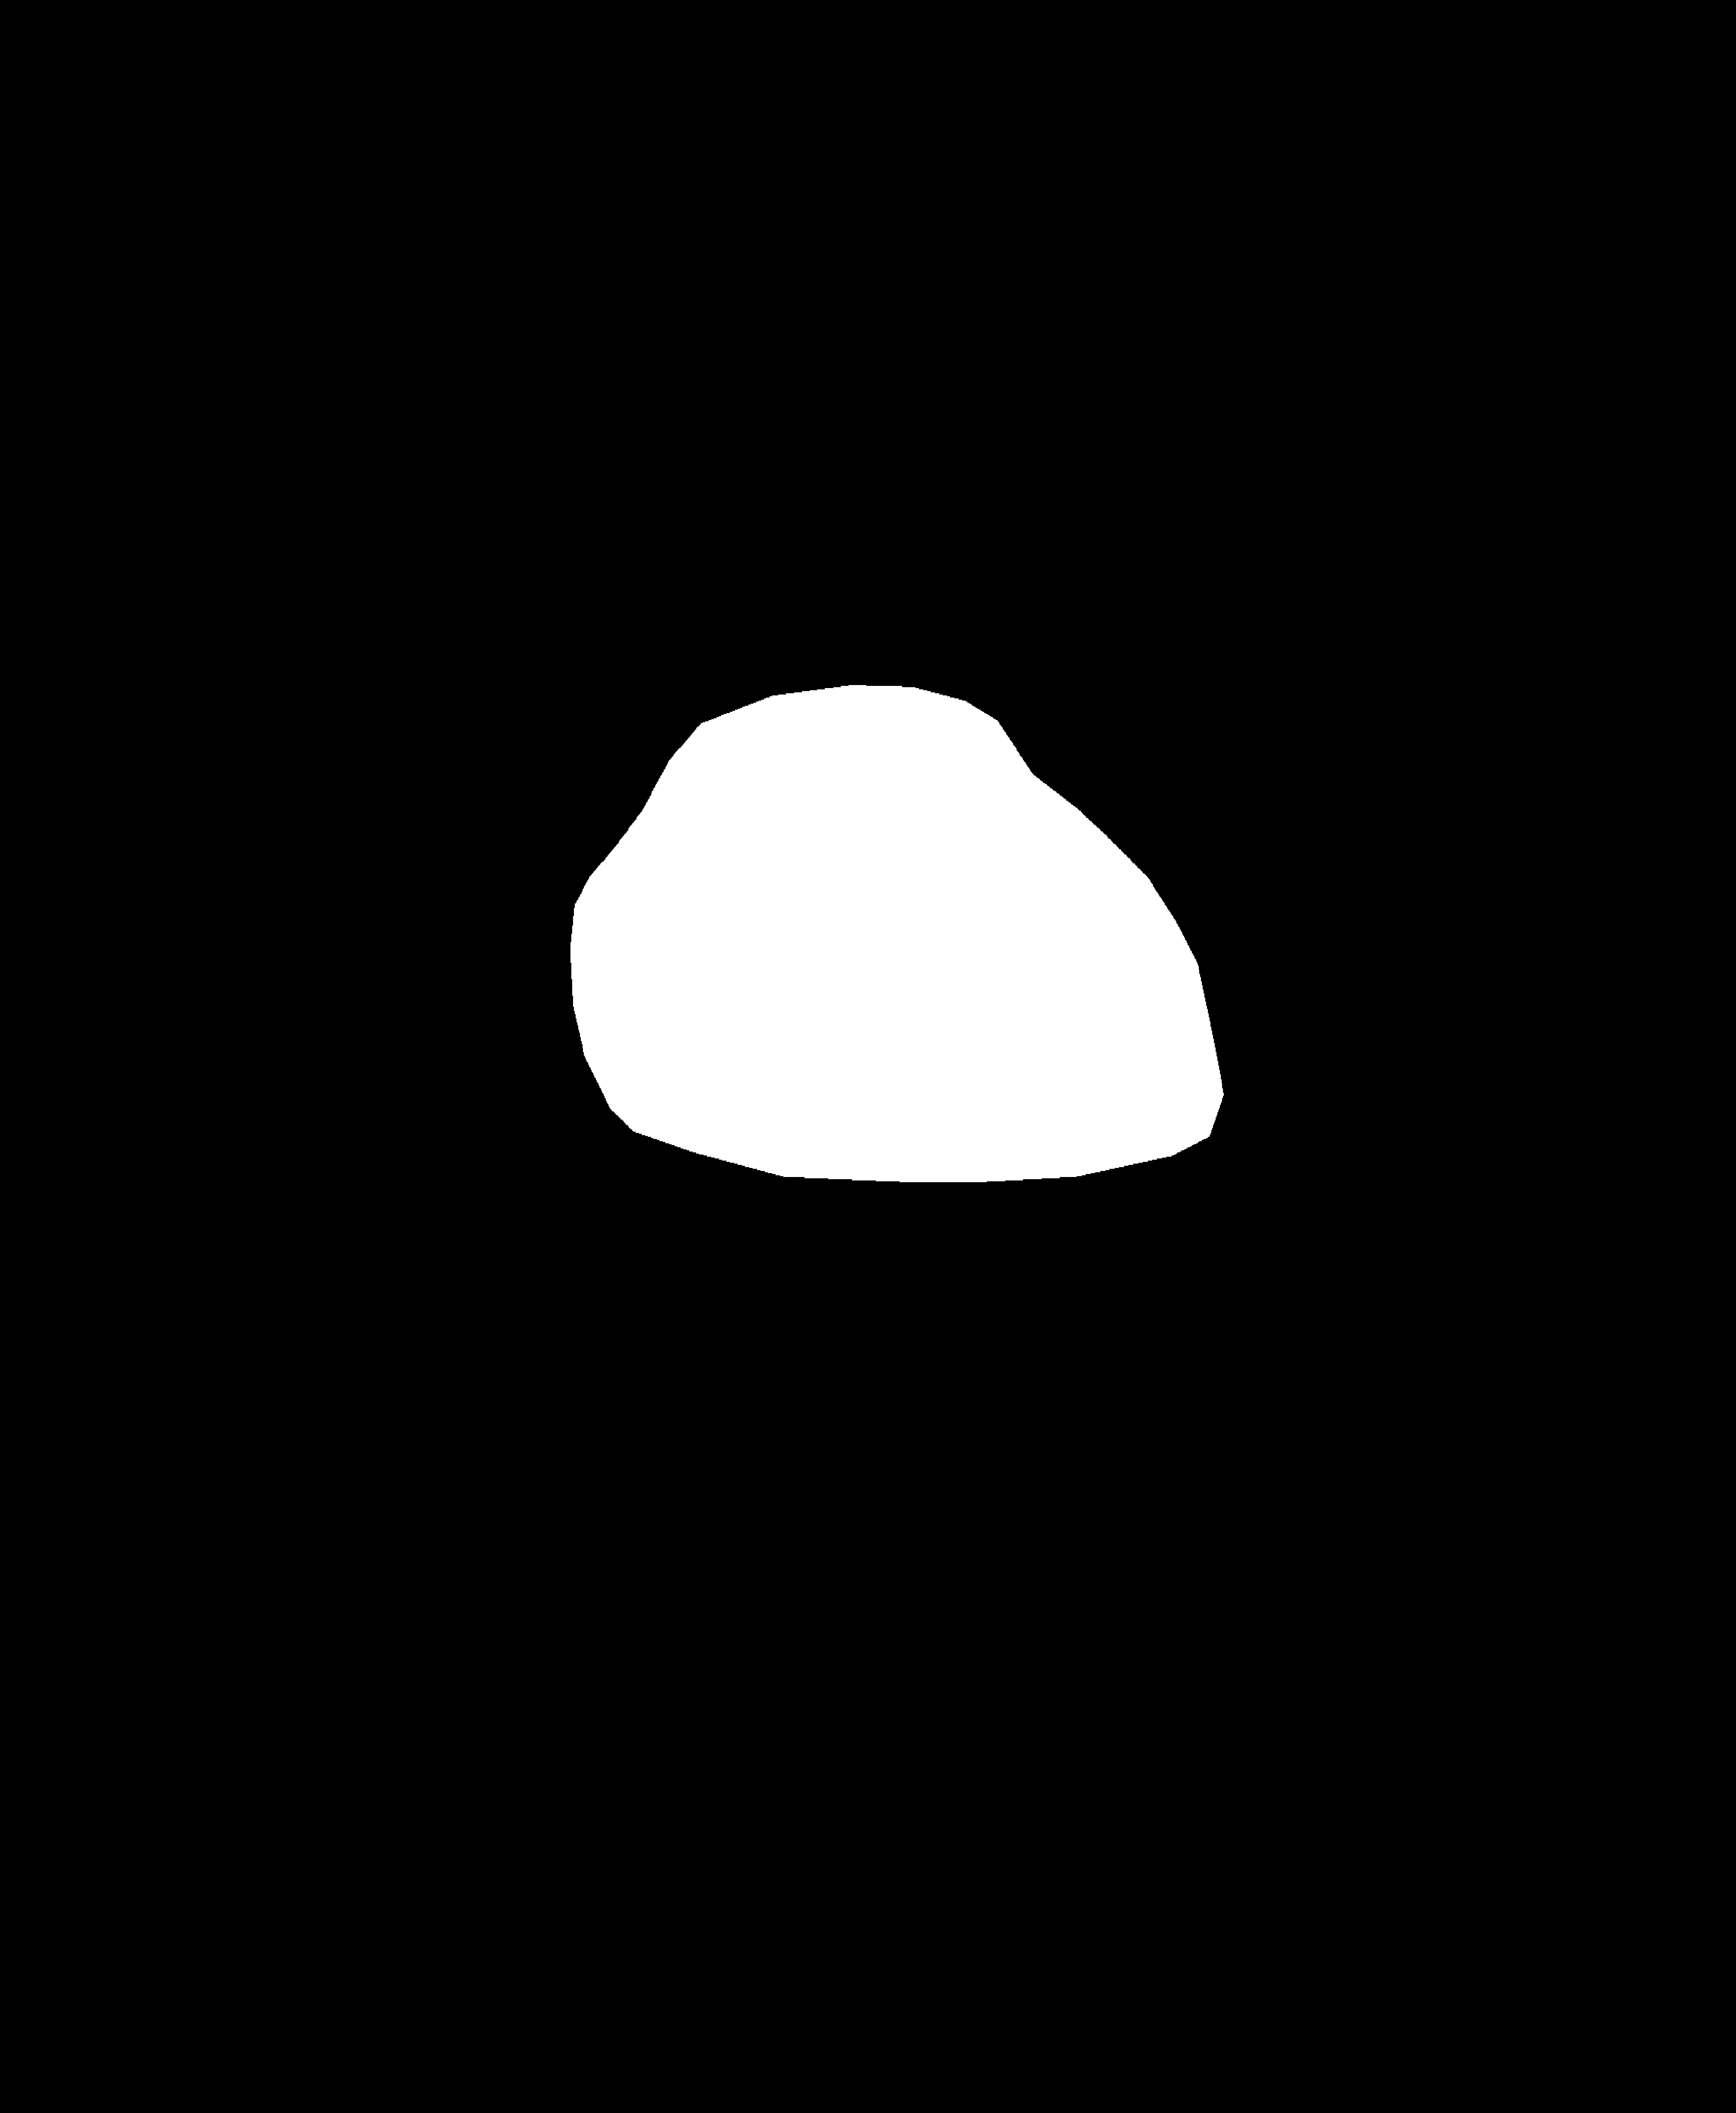heart: (569, 765, 1222, 1216)
left_lung: (174, 198, 762, 1279)
right_lung: (892, 168, 1520, 1248)
